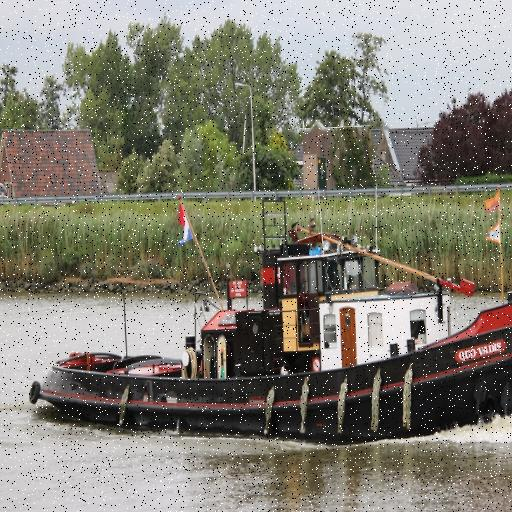tugboat: (31, 189, 512, 455)
